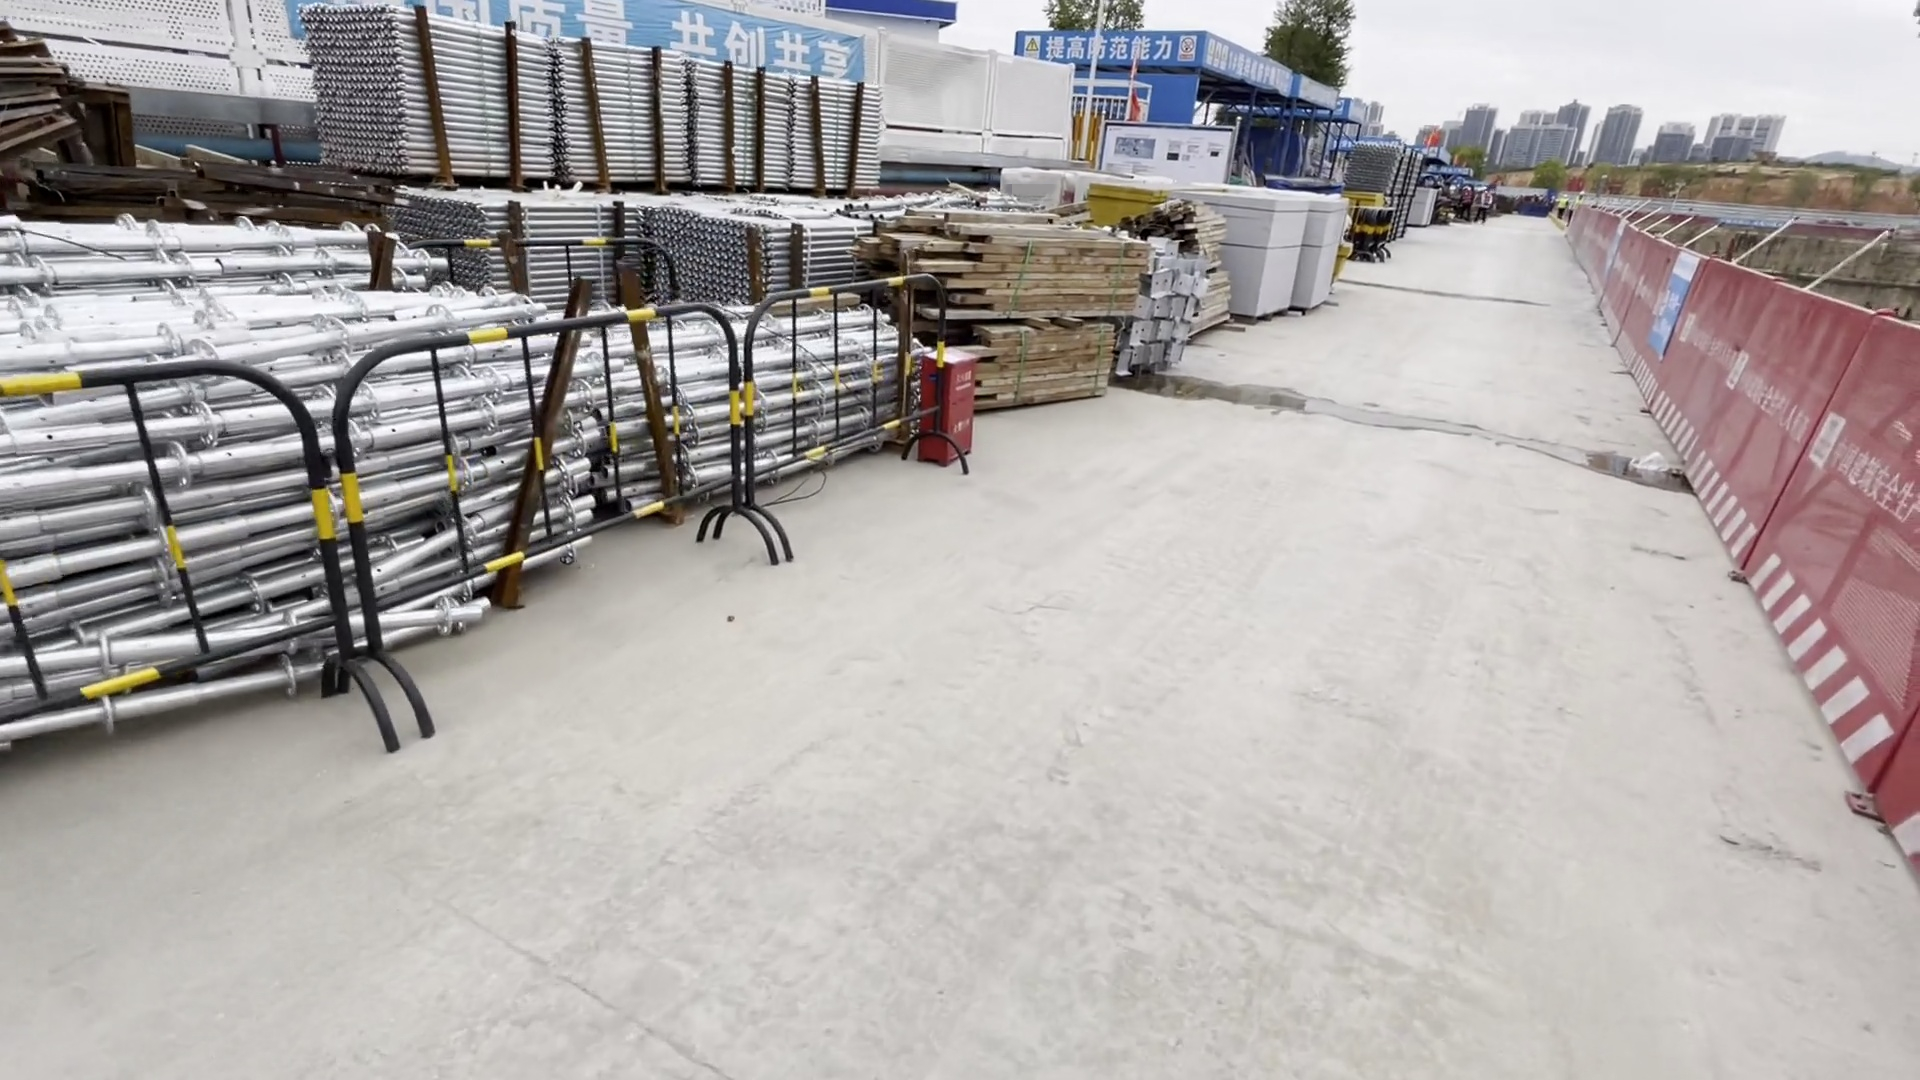brick: (1182, 189, 1353, 313), (1400, 186, 1433, 229)
fence: (1568, 196, 1920, 872)
scaffold: (1, 247, 434, 655), (306, 16, 882, 187), (405, 183, 891, 291)
slogan: (386, 1, 874, 104), (1007, 33, 1203, 79)
wood: (895, 218, 1126, 413)
